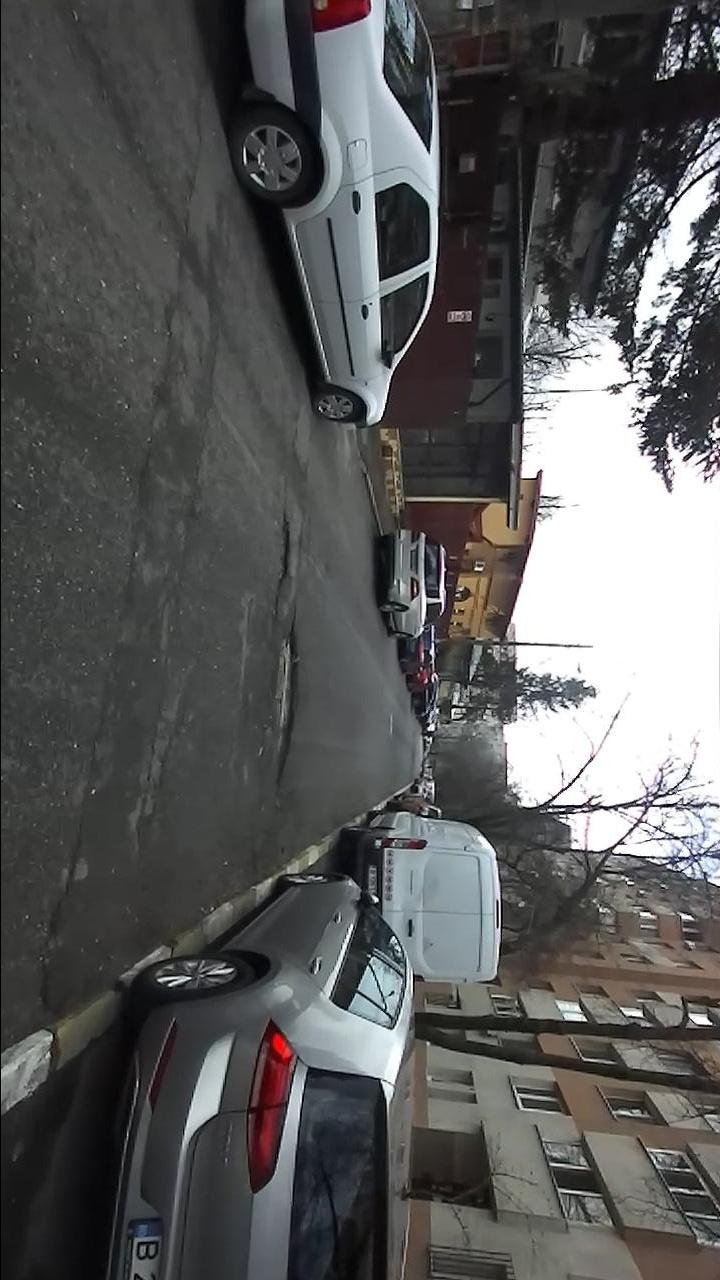pothole: (27, 837, 86, 1002), (268, 605, 302, 786), (270, 507, 293, 592)
